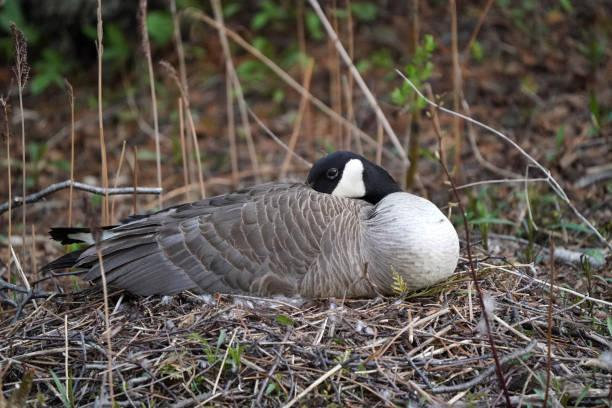Canadian-Goose: (48, 151, 458, 302)
